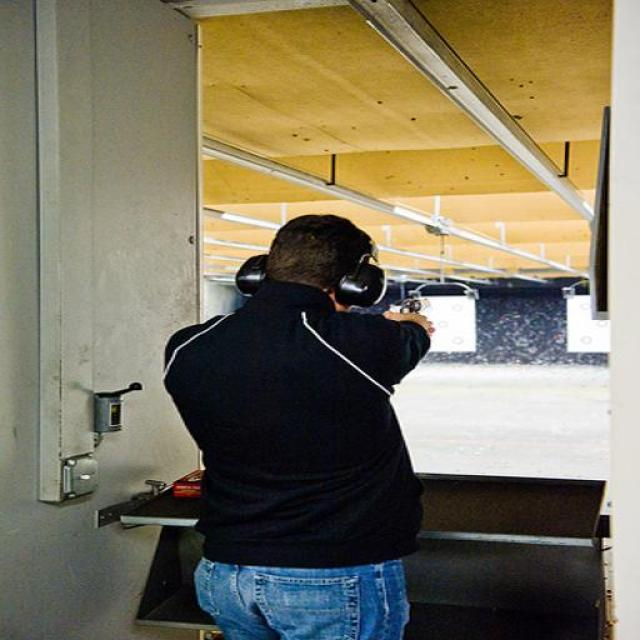pistol: (401, 296, 422, 315)
